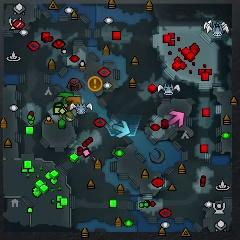Other: (88, 75, 103, 92)
x1: (168, 110, 184, 127)
x2: (59, 106, 73, 118)
x3: (113, 120, 130, 138)
x4: (58, 92, 74, 103)
x5: (66, 96, 82, 105)
